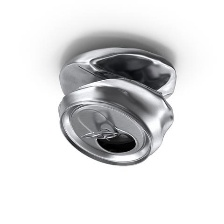can: (50, 39, 187, 169)
